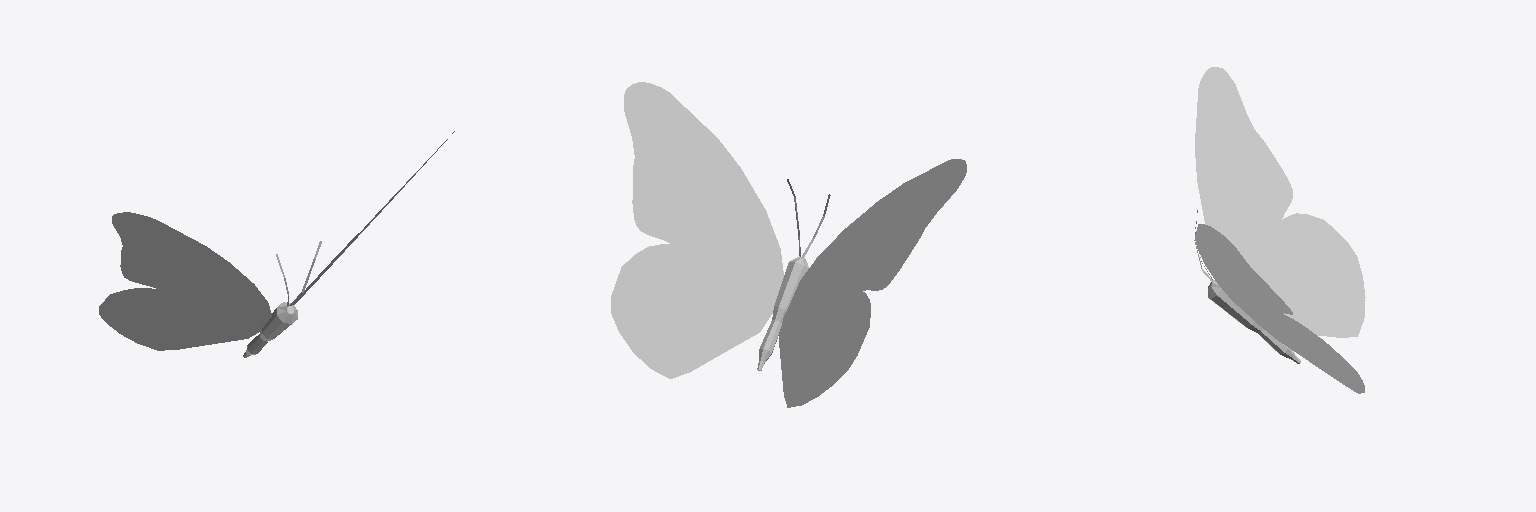
Rendered from butterfly_1.obj.
3 renders of one model, left to right at view 1: azimuth 30°, elevation 25°; view 2: azimuth 150°, elevation 25°; view 3: azimuth 270°, elevation 25°, orthographic.
Visible parts, largest first — view 1: Butterfly; view 2: Butterfly; view 3: Butterfly.
Boxes of the visible parts, x1,y1,x2,y2 form: Butterfly: [99, 131, 454, 357]; Butterfly: [611, 82, 966, 407]; Butterfly: [1194, 67, 1365, 393].
Size of the model in its own units: 2.2 by 1.35 by 0.9582.